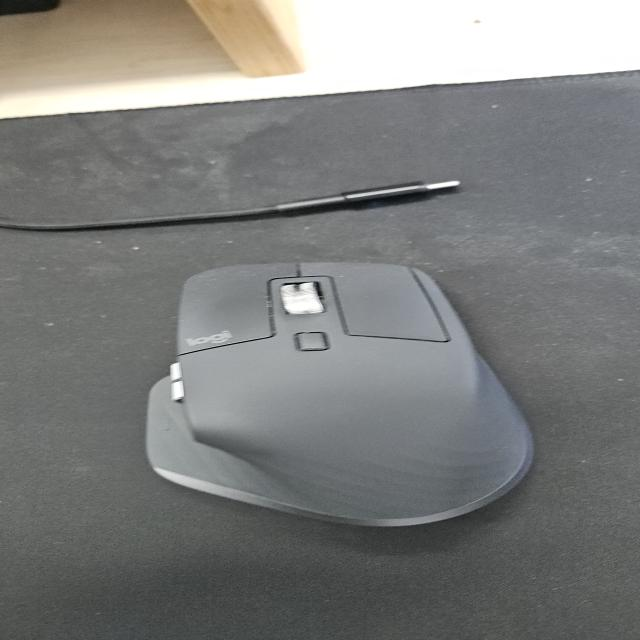Mouse: (142, 259, 538, 528)
